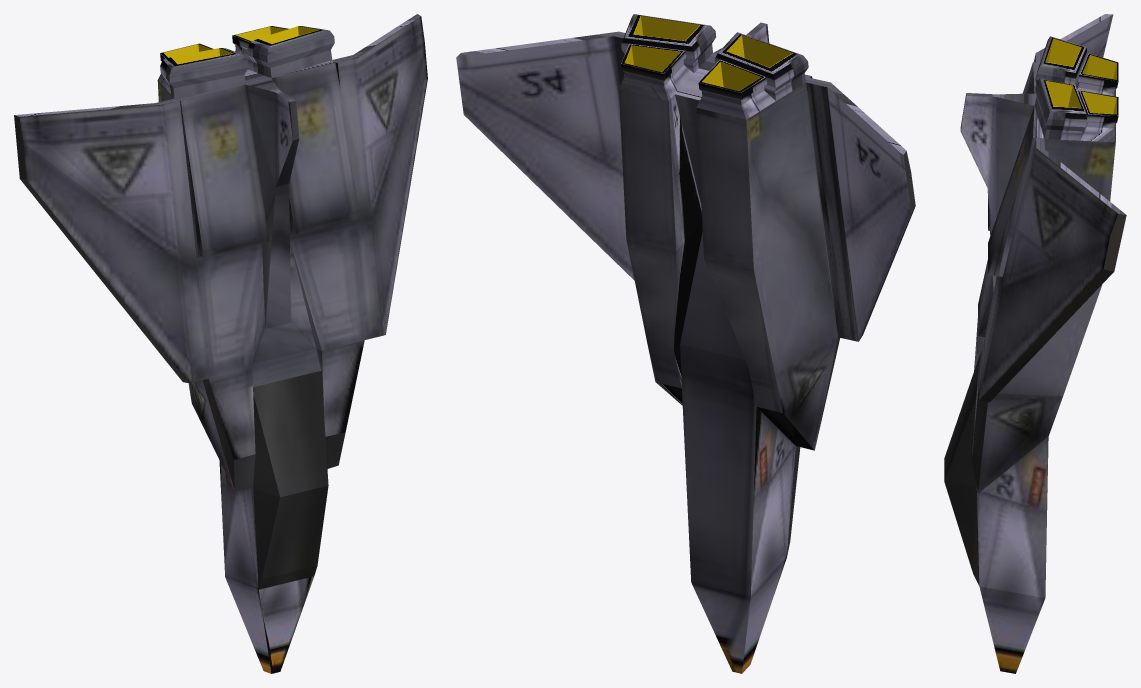
The model's file is fight2.obj.
3 renders of one model, left to right at view 1: azimuth 30°, elevation 25°; view 2: azimuth 150°, elevation 25°; view 3: azimuth 270°, elevation 25°, orthographic. The views are drawn at different scales.
Parts seen in each view (by area): view 1: Object.1; view 2: Object.1; view 3: Object.1.
Boxes of the visible parts, x1,y1,x2,y2 form: Object.1: (14, 14, 427, 673); Object.1: (456, 14, 915, 673); Object.1: (944, 14, 1126, 673).
Size of the model in its own units: 48.73 by 69.13 by 19.03.
Materials: 1 (1 with a texture image).
